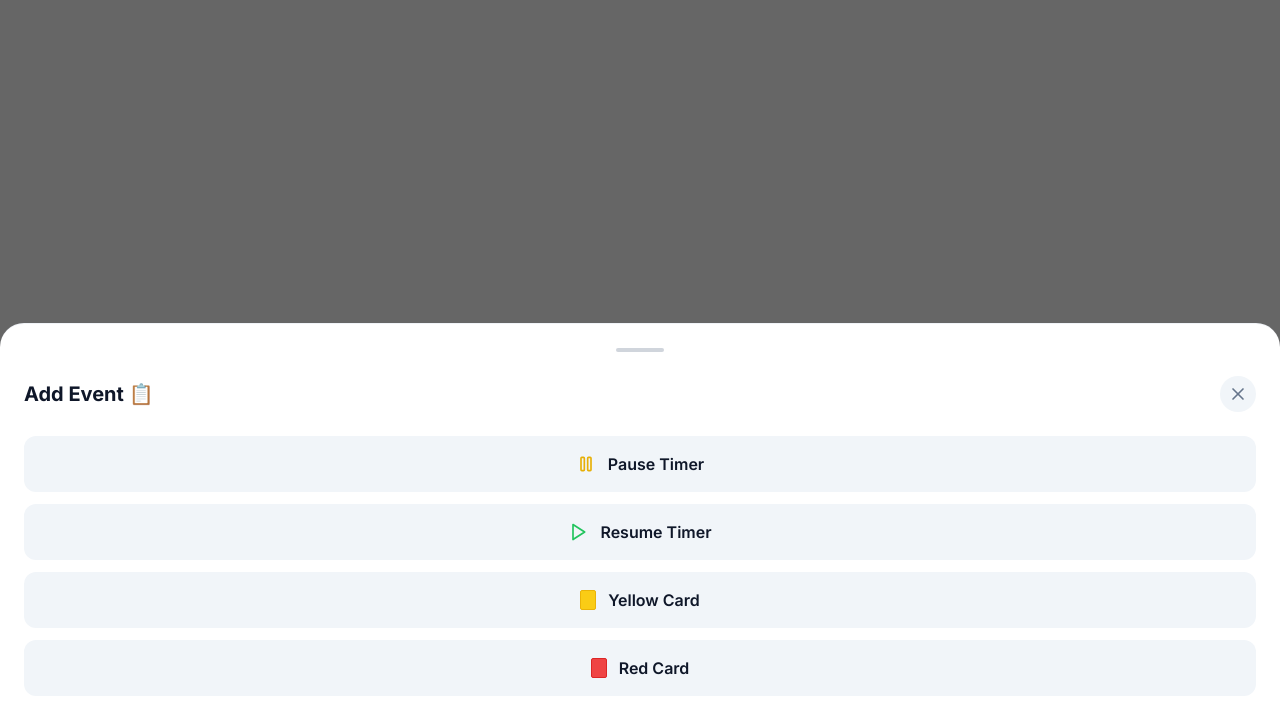
AddEventSheet › returns to the main menu from the card screen via Back without closing
The image size is (1280, 720).
Click the button "Yellow Card". click: (640, 600)
box: [24,572,1256,628]
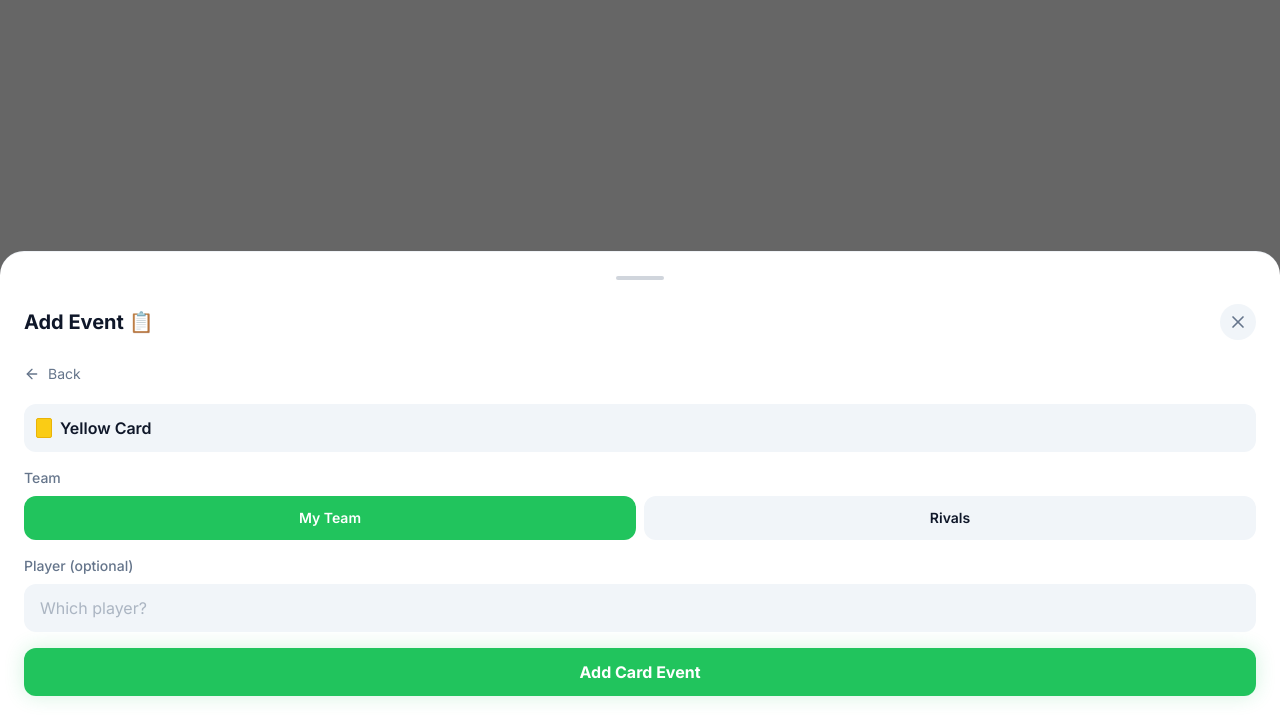
Click the button "Back". click: (52, 374)
box: [24,364,81,384]
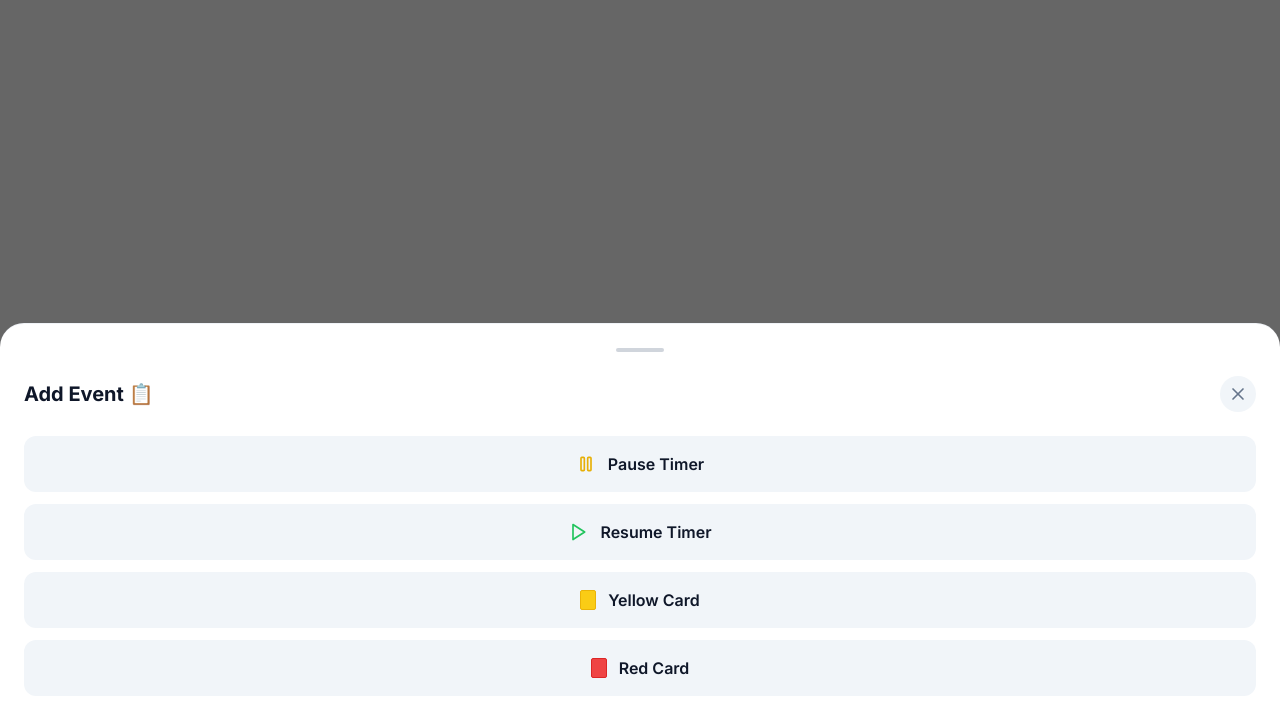
Now the text "Pause Timer" is shown, box [608,452,704,476]
